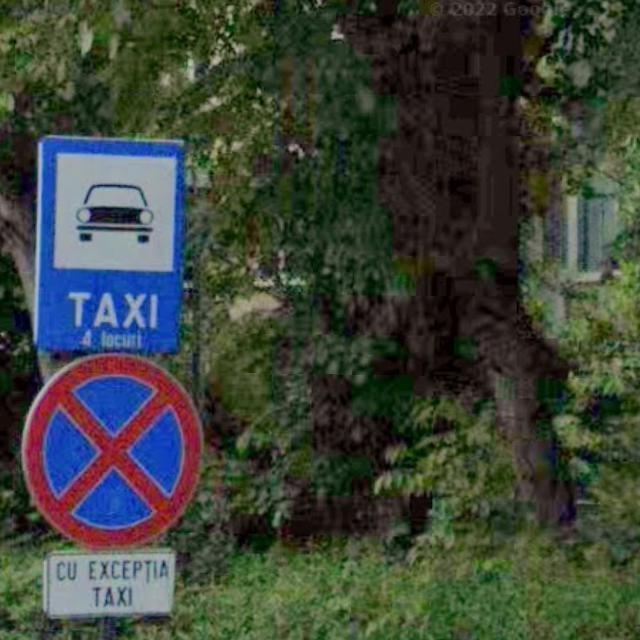forb_waiting: (18, 351, 200, 548)
